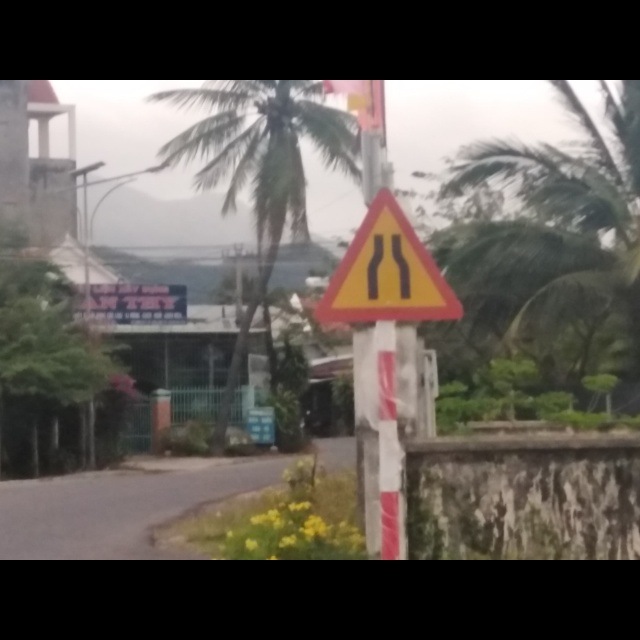Đường bị hẹp cả hai bên: (309, 184, 468, 325)
